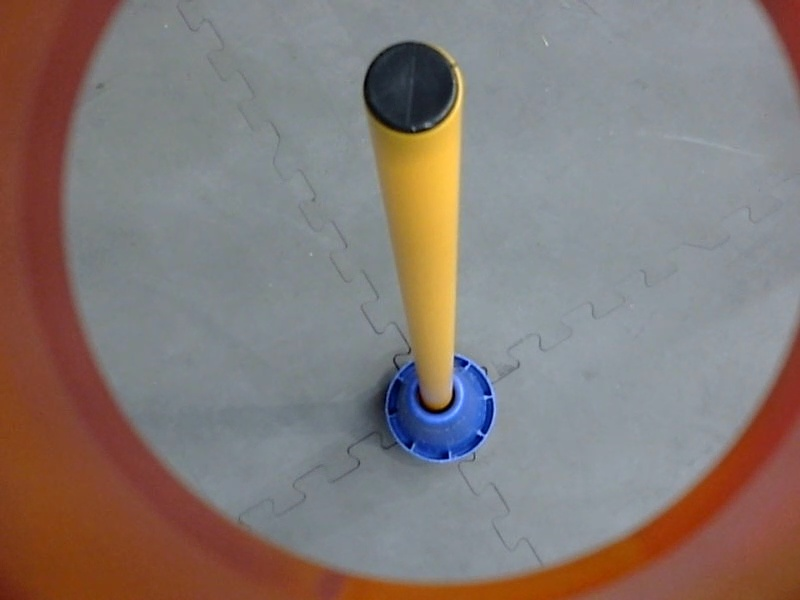tip: (356, 36, 466, 144)
